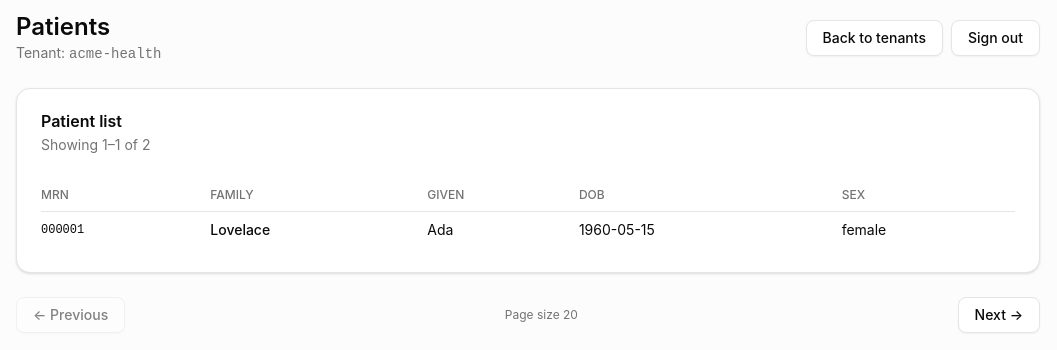
Test case: <PatientListPage /> › paginates forward when Next is clicked
Expected: the table with test id "patient-list-table" is shown, [41, 179, 1015, 248]
Click the button "Next →" at (999, 315), box [958, 297, 1040, 333]
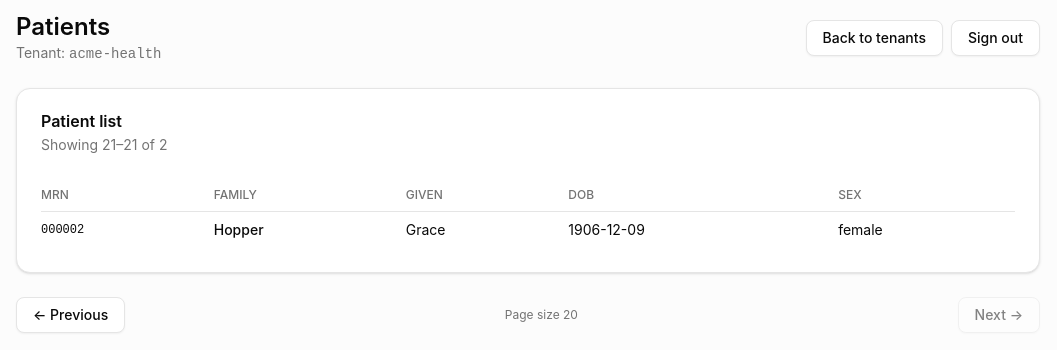
Now the text "Hopper" is shown, box [214, 212, 406, 248]
